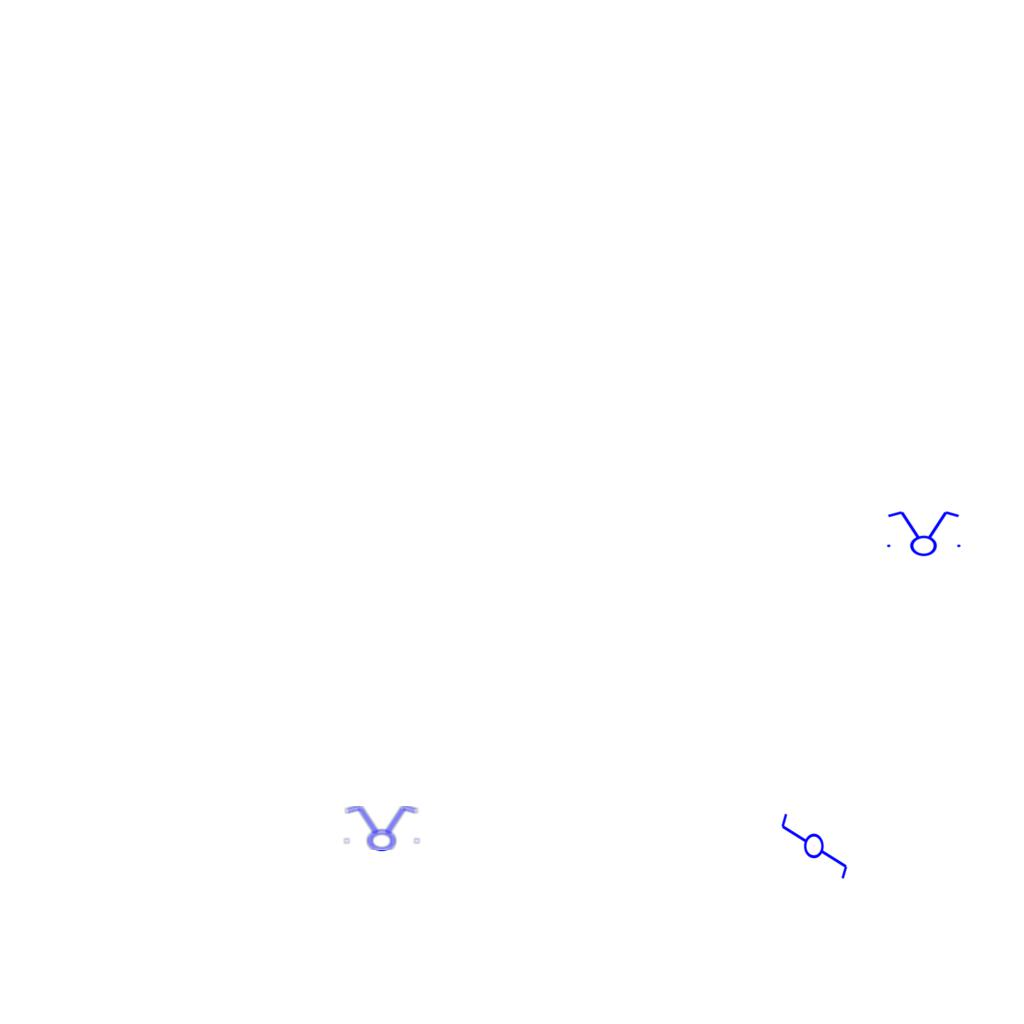Serienschalter: (339, 804, 423, 852), (881, 509, 965, 557)
Wechselschalter: (779, 803, 851, 881)
